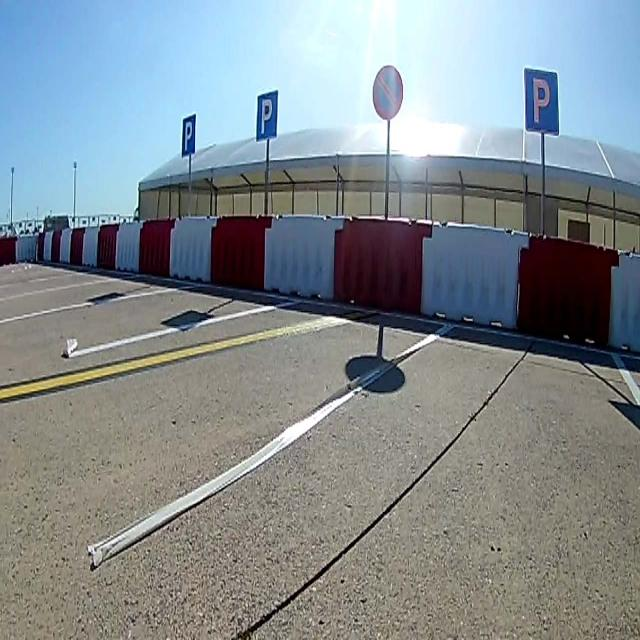park: (524, 67, 559, 136), (256, 92, 276, 140), (182, 116, 195, 154)
parkyasak: (372, 64, 404, 117)
